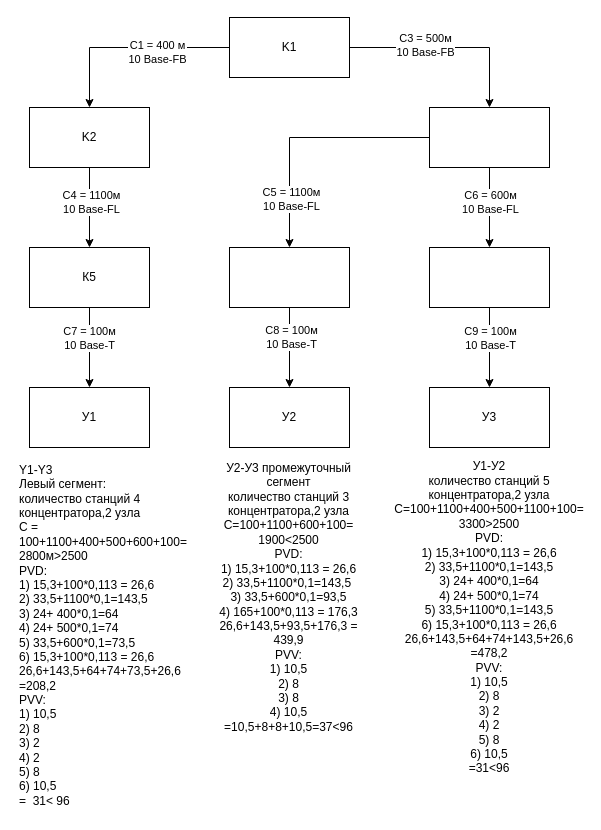
The diagram is 601 pixels wide and 830 high, and some of its shapes have lost their labels. Each missing label, with the centre of its shape:
"К4" belongs at point (489, 137).
"К6" belongs at point (289, 277).
"К7" belongs at point (489, 277).
